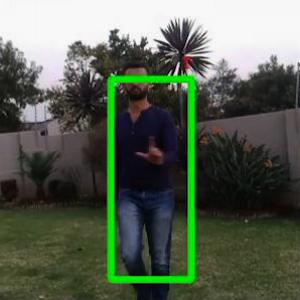land_hand: (134, 130, 170, 167)
